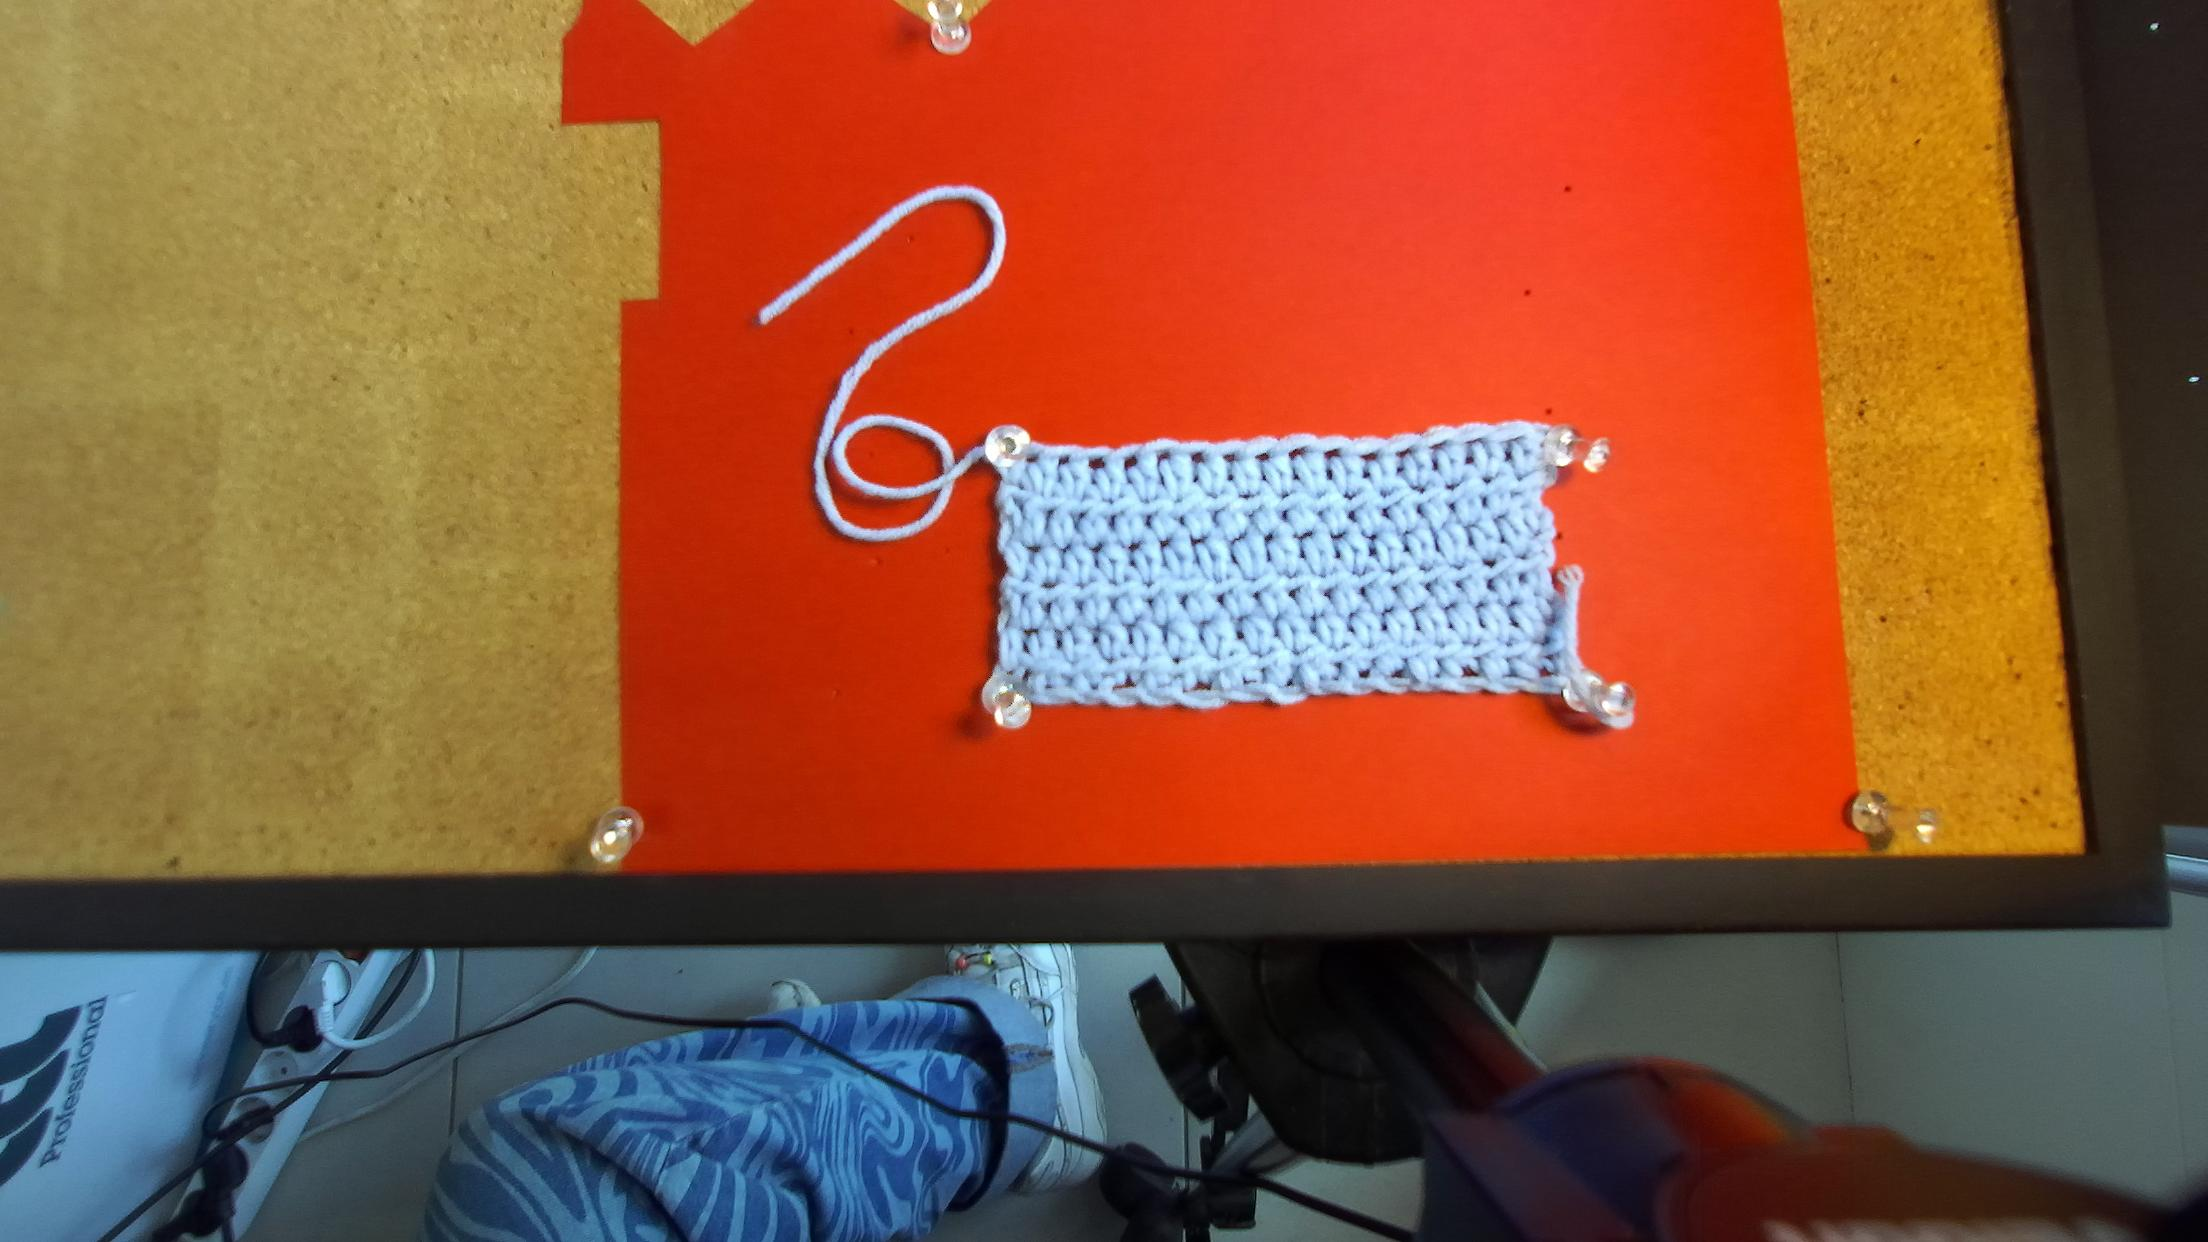hole: (1322, 447, 1345, 461), (1089, 455, 1107, 472), (1125, 452, 1139, 473), (1156, 450, 1174, 466), (1287, 446, 1307, 459), (1395, 446, 1415, 459), (1251, 450, 1269, 464), (1429, 438, 1448, 450), (1498, 434, 1524, 443), (1189, 450, 1204, 466), (1462, 437, 1485, 446), (1357, 452, 1378, 461), (1222, 452, 1236, 464), (1059, 453, 1071, 466), (1027, 455, 1039, 463)
swatch: (978, 425, 1617, 728)
